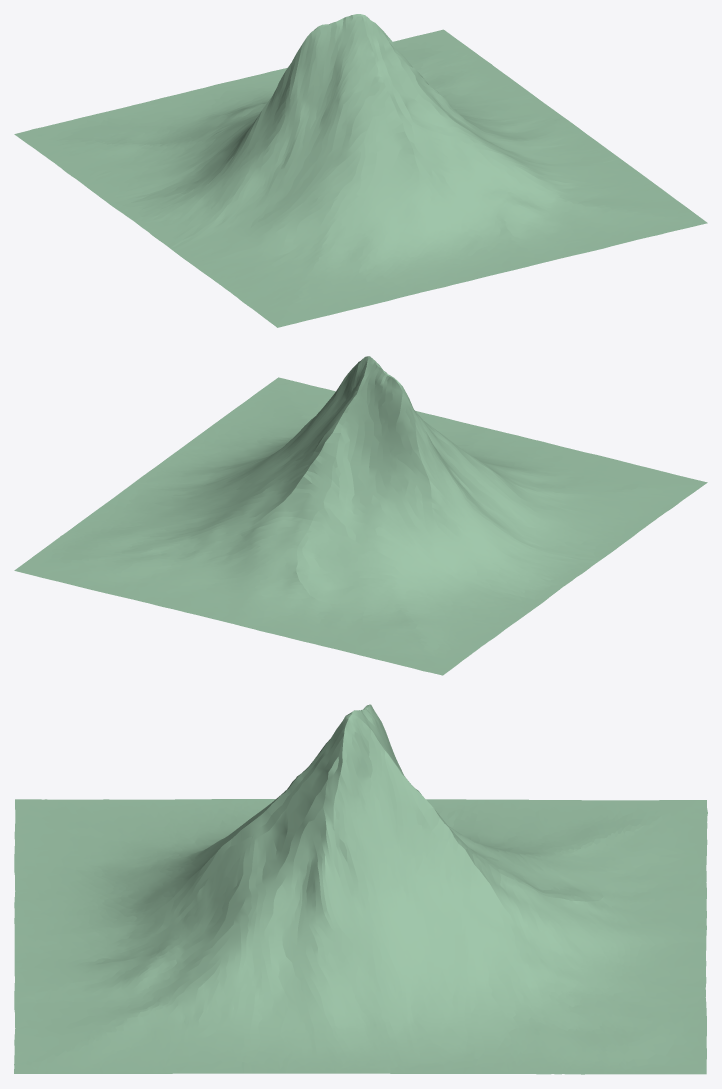
The model's file is volcano_C_small_square.fbx.
3 views of the same model, one above another, from view 1: azimuth 30°, elevation 25°; view 2: azimuth 150°, elevation 25°; view 3: azimuth 270°, elevation 25° (orthographic). The views are drawn at different scales.
Parts seen in each view (by area): view 1: volcano_C_small_square; view 2: volcano_C_small_square; view 3: volcano_C_small_square.
Boxes of the visible parts, <box> form: volcano_C_small_square: <box>14,14,707,327</box>; volcano_C_small_square: <box>14,356,707,675</box>; volcano_C_small_square: <box>14,704,707,1074</box>.
Size of the model in its own units: 7561 by 2828 by 8057.
